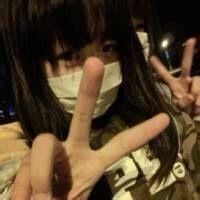OK: (43, 25, 126, 119)
